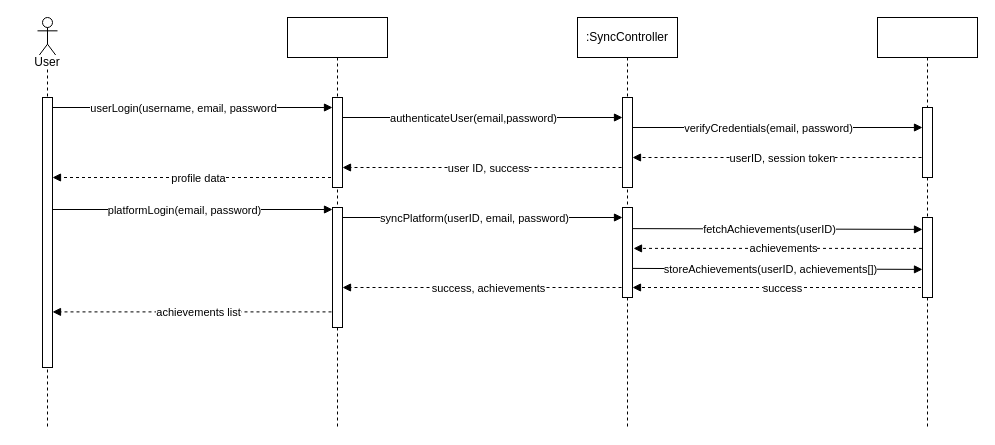
The diagram is 995 pixels wide and 445 high, and some of its shapes have lost their labels. Here are the shapes that lost their labels. From the top down, the centre of each, then its label:
At pixel 337 222: ":UIInterface".
At pixel 927 222: ":Database".
